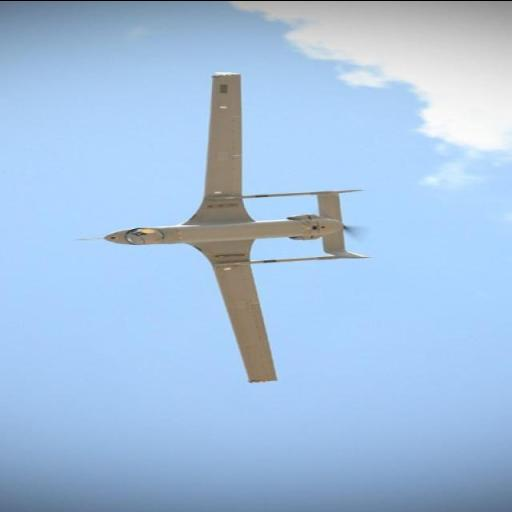uav: (67, 66, 387, 386)
